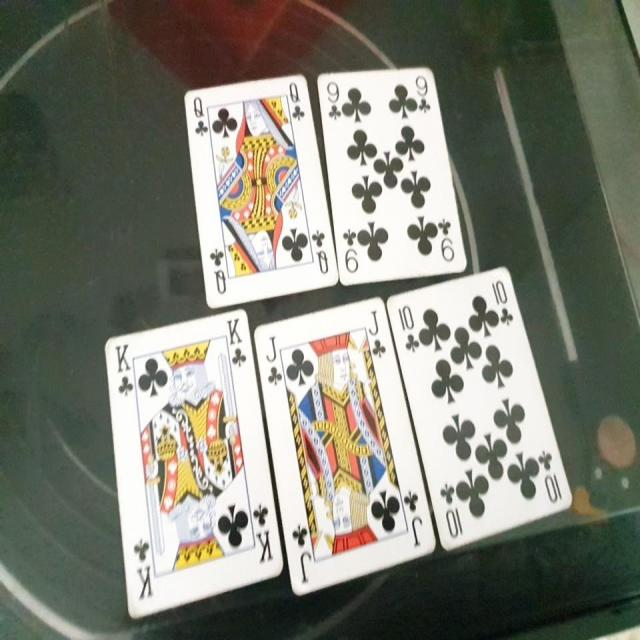10 Trefoils: (385, 262, 572, 553)
9 Trefoils: (317, 58, 468, 284)
J Trefoils: (252, 295, 438, 598)
K Trefoils: (105, 308, 285, 622)
Q Trefoils: (182, 72, 338, 307)
